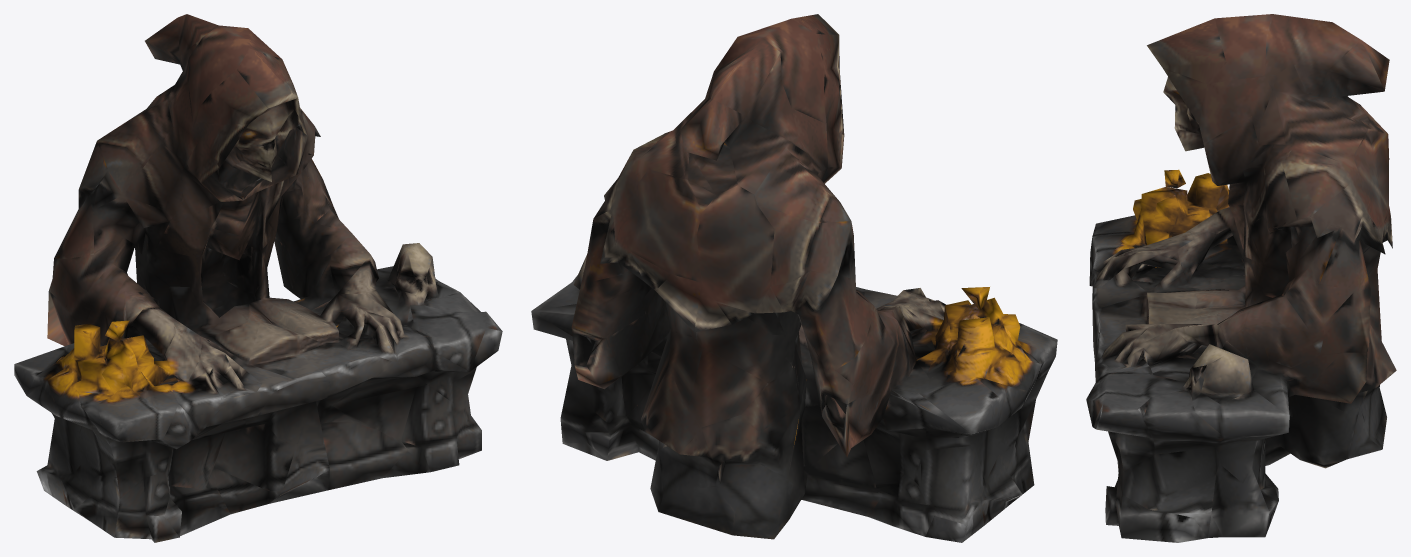
File: merchant_crucible.glb
The picture shows the model from 3 angles, left to right: view 1: azimuth 30°, elevation 25°; view 2: azimuth 150°, elevation 25°; view 3: azimuth 270°, elevation 25°; orthographic projection. The views are drawn at different scales.
Bounding box in the file's own units: 1.99 × 1.99 × 1.27.
1 material, 1 textured.
